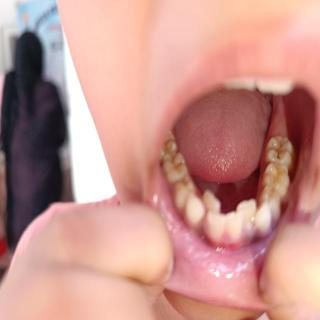cavities: (270, 146, 288, 162)
maligned: (199, 178, 227, 216), (234, 196, 258, 225)
